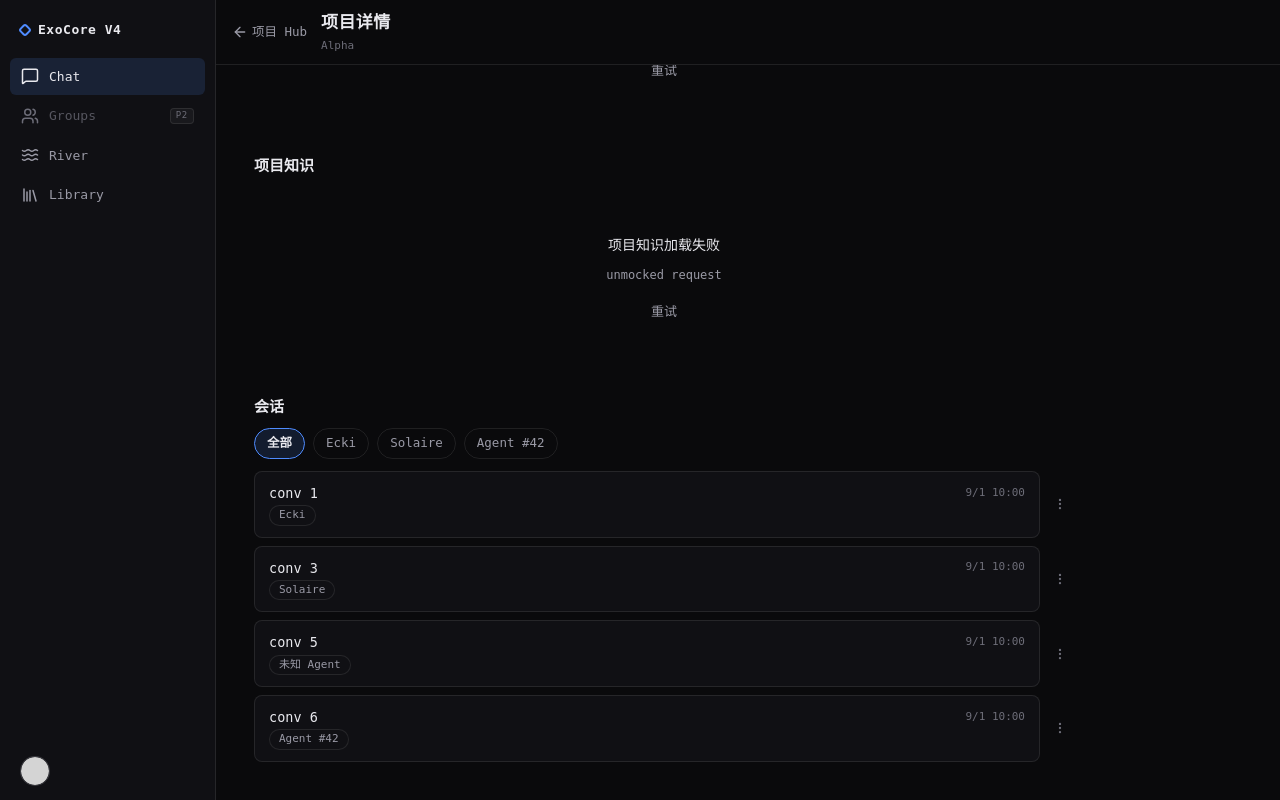
Test: P2B Project Conversation lens (single shared cache) › only exact current-Project rows appear; backend order preserved under All and Agent filters
(page scrolled)
Check: the radio button labelled "全部" is checked, box [254, 428, 305, 459]
Check: the radio button labelled "Solaire" is shown, box [377, 428, 456, 459]
narrow by Ecki: only his rows, backend order preserved
Click the radio button labelled "Ecki".
click(341, 443)  # box [313, 428, 369, 459]
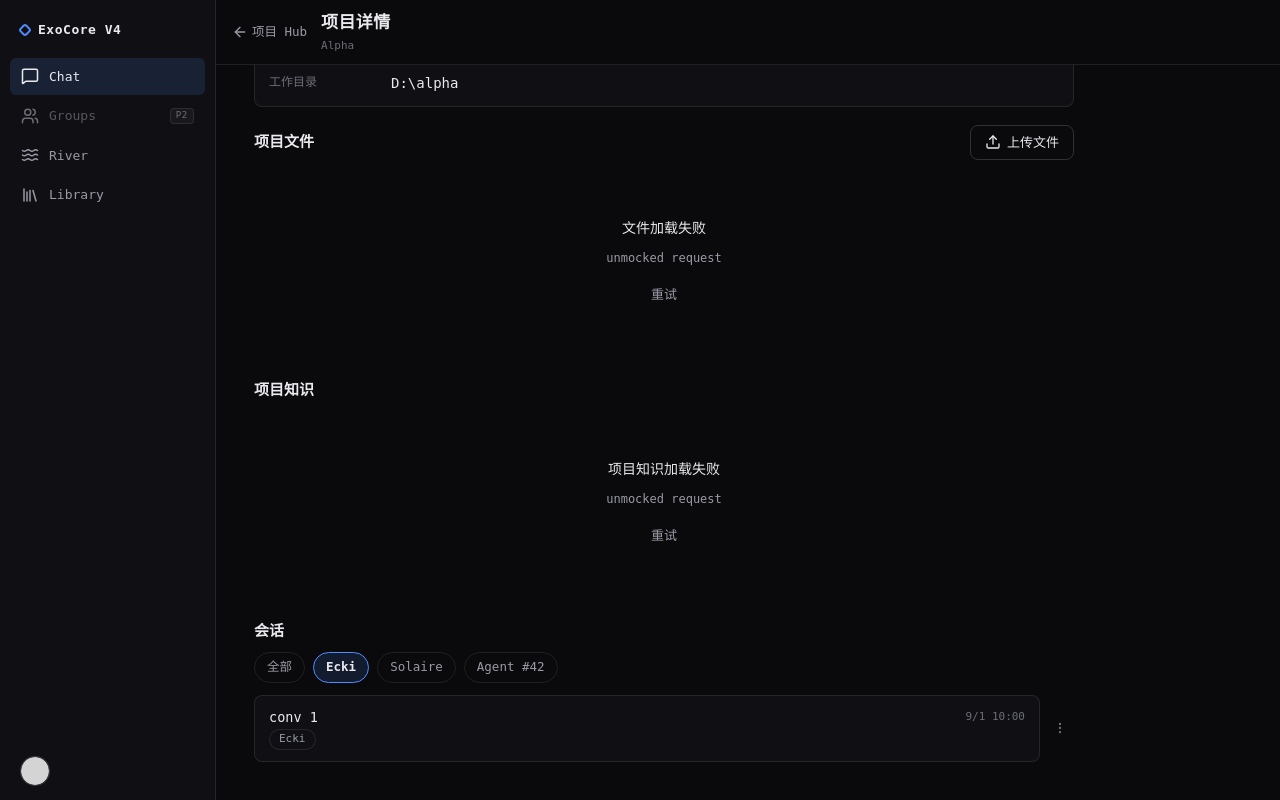
row 5 has no identity → truthful unavailable label under All
Click the radio button labelled "全部".
click(280, 667)  # box [254, 652, 305, 683]
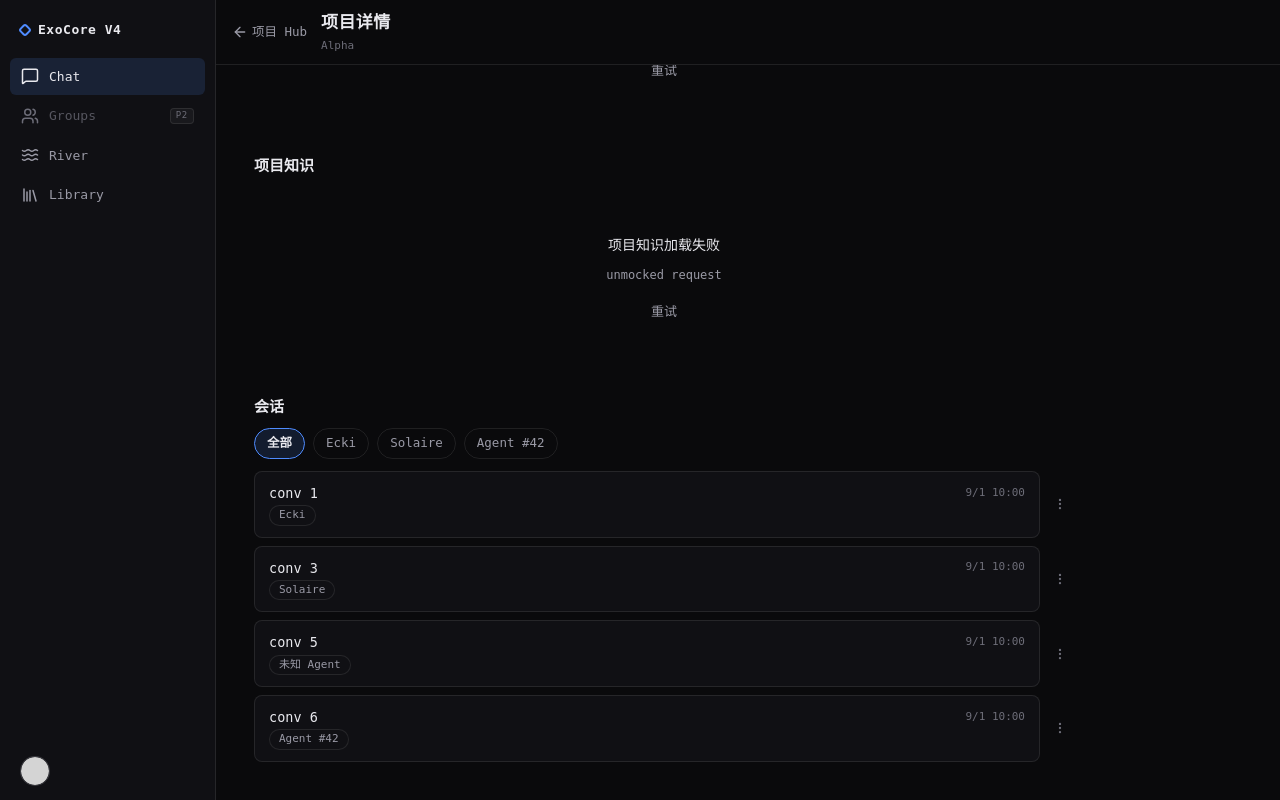
Check: the link "conv 5 9/1 10:00 未知 Agent" is shown, box [254, 620, 1040, 687]
